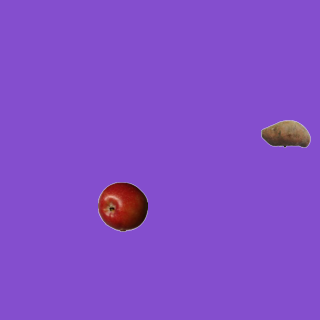Apple Braeburn: (97, 181, 147, 231)
Potato Sweet: (260, 108, 310, 158)
